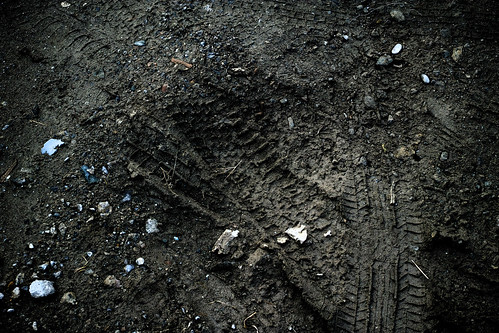dirt: (15, 1, 493, 326)
